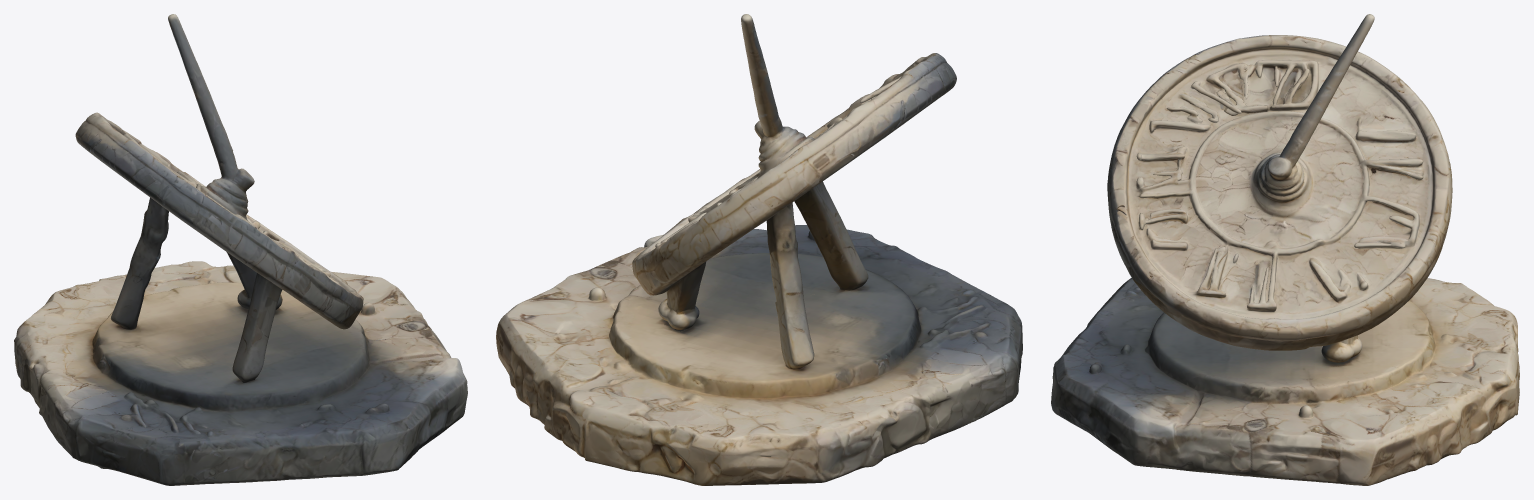
Rendered from plaza-clock-sundial-stone.glb.
The picture shows the model from 3 angles, left to right: view 1: azimuth 30°, elevation 25°; view 2: azimuth 150°, elevation 25°; view 3: azimuth 270°, elevation 25°; orthographic projection. The views are drawn at different scales.
Parts seen in each view (by area): view 1: tripo_node_731b2e0a-c80a-4da2-8f22-b22a5e71652a; view 2: tripo_node_731b2e0a-c80a-4da2-8f22-b22a5e71652a; view 3: tripo_node_731b2e0a-c80a-4da2-8f22-b22a5e71652a.
Boxes of the visible parts, bbox=[...] form: tripo_node_731b2e0a-c80a-4da2-8f22-b22a5e71652a: bbox=[14, 14, 467, 485]; tripo_node_731b2e0a-c80a-4da2-8f22-b22a5e71652a: bbox=[496, 14, 1022, 485]; tripo_node_731b2e0a-c80a-4da2-8f22-b22a5e71652a: bbox=[1051, 14, 1519, 485].
Size of the model in its own units: 1.71 by 1.5 by 1.74.
1 material, 1 textured.
